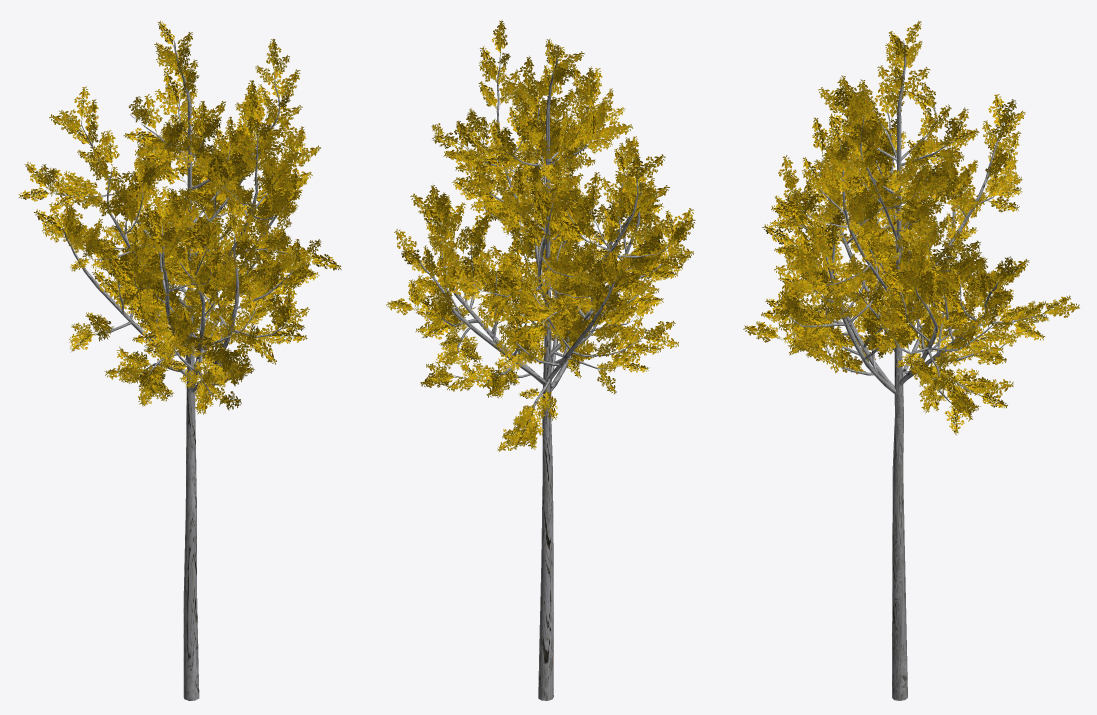
Rendered from tree (3).glb.
The picture shows the model from 3 angles, left to right: view 1: azimuth 30°, elevation 25°; view 2: azimuth 150°, elevation 25°; view 3: azimuth 270°, elevation 25°; orthographic projection.
Visible parts, largest first — view 1: Tree; view 2: Tree; view 3: Tree.
Boxes of the visible parts, box(x1,y1,x2,y2) form: Tree: box(18, 20, 341, 700); Tree: box(386, 19, 695, 700); Tree: box(743, 20, 1079, 700).
Size of the model in its own units: 45.92 by 102 by 47.57.
2 materials, 2 textured.
